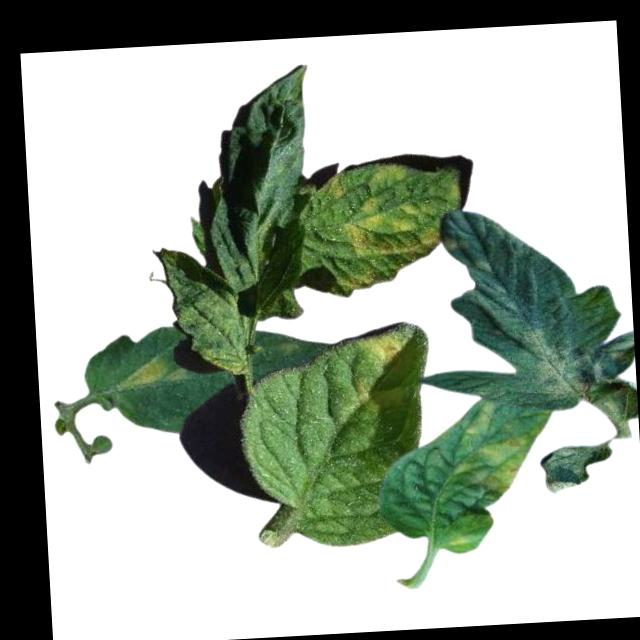Leaf_Mold: (336, 197, 444, 295), (453, 398, 543, 499), (514, 324, 596, 400), (355, 329, 401, 365), (120, 357, 168, 388), (320, 173, 344, 204), (350, 376, 367, 401)
